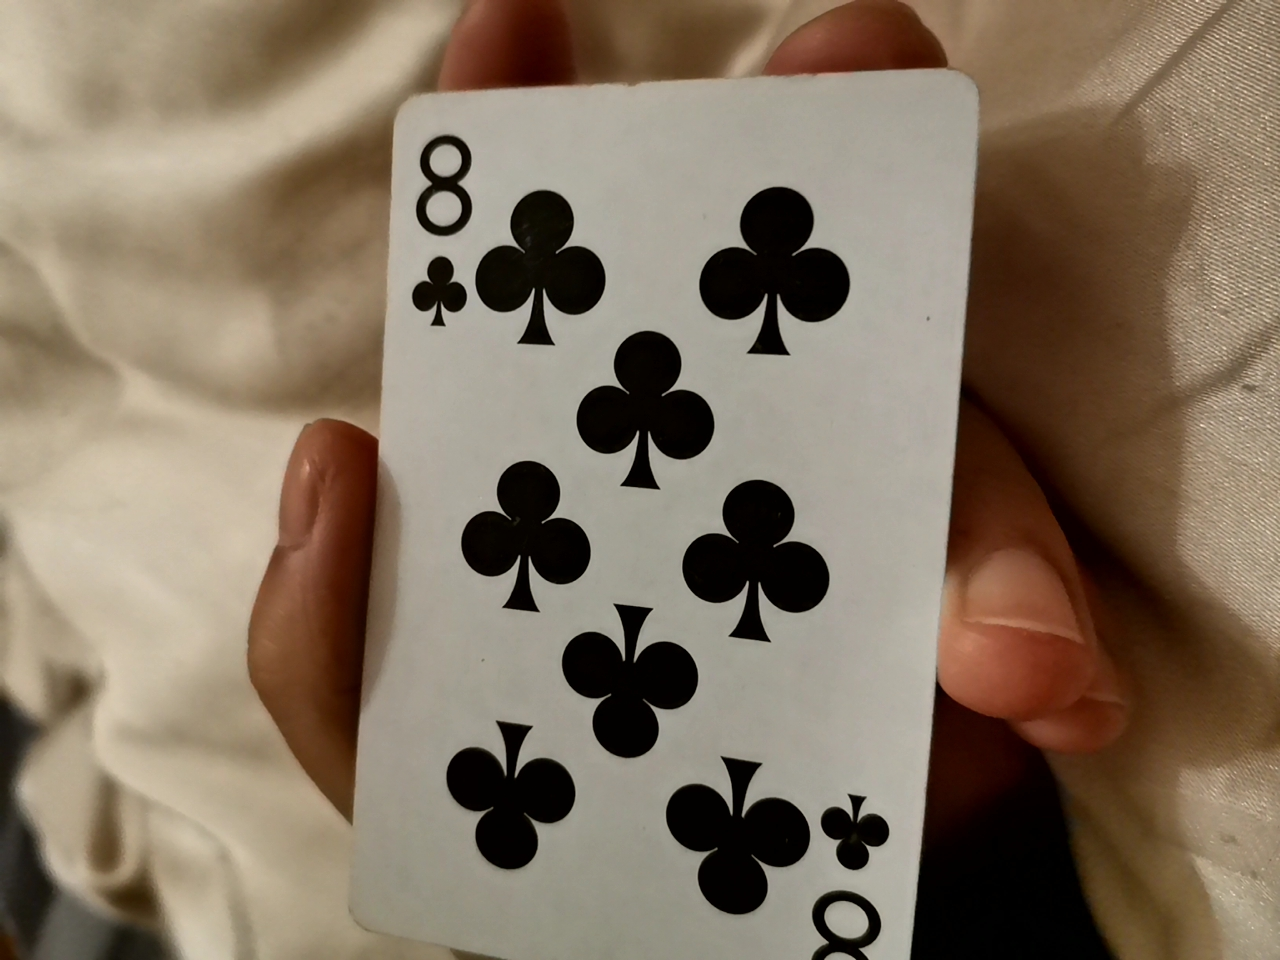mh 8: (342, 62, 948, 951)
